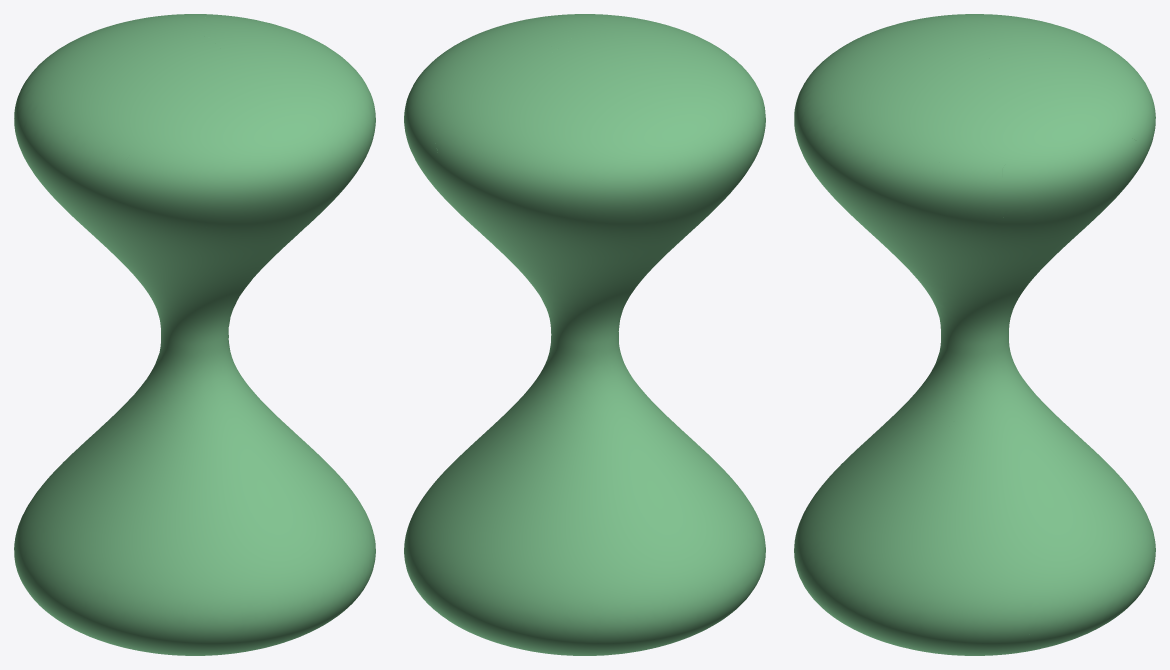
Rendered from hourglass.glb.
The picture shows the model from 3 angles, left to right: view 1: azimuth 30°, elevation 25°; view 2: azimuth 150°, elevation 25°; view 3: azimuth 270°, elevation 25°; orthographic projection.
Visible parts, largest first — view 1: Desmos_Mesh_0; view 2: Desmos_Mesh_0; view 3: Desmos_Mesh_0.
Part boxes in pixels (<box>): Desmos_Mesh_0: <box>14,14,375,655</box>; Desmos_Mesh_0: <box>404,14,765,655</box>; Desmos_Mesh_0: <box>794,14,1155,655</box>.
Bounding box in the file's own units: 7.54 × 13.24 × 7.54.
